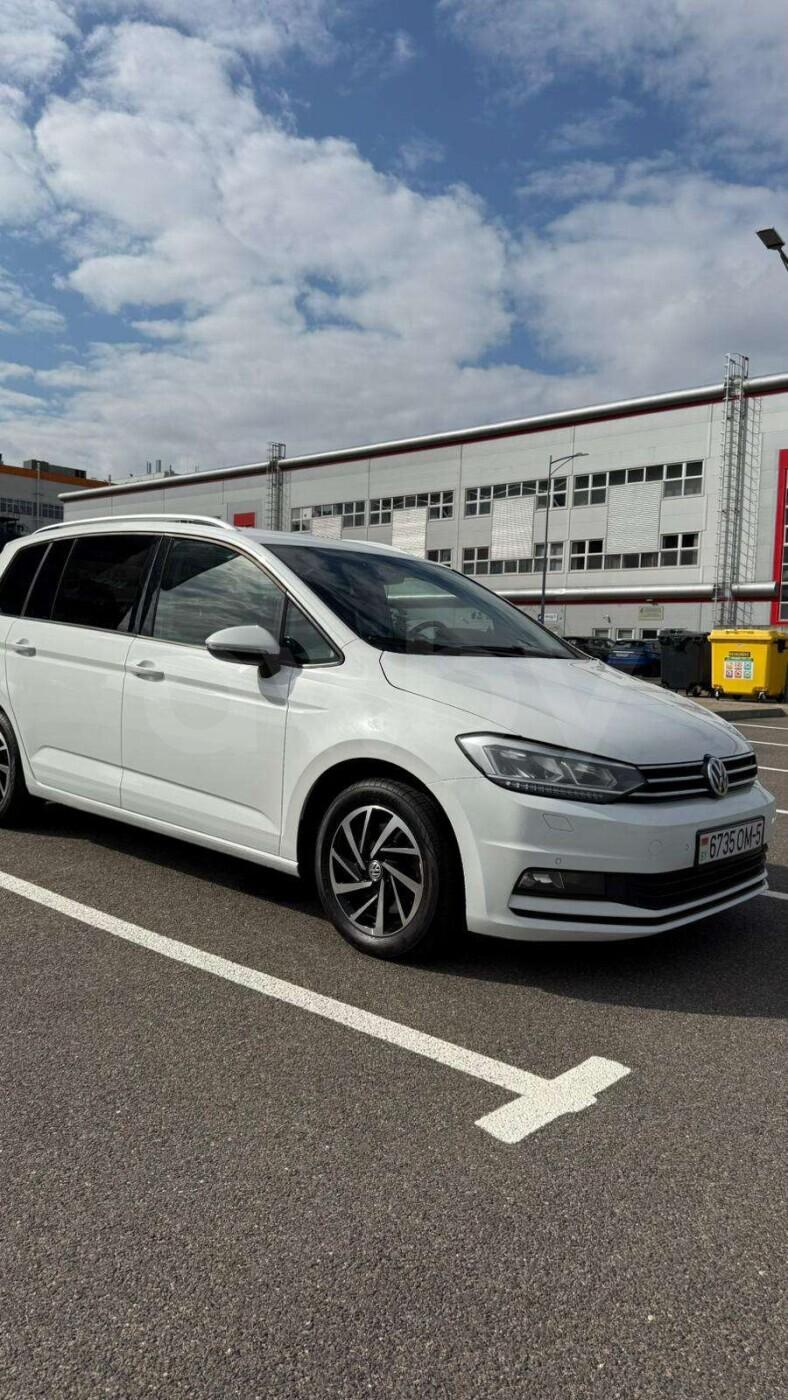Touran_2015: (0, 516, 776, 974)
